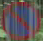No waiting: (3, 3, 38, 40)
